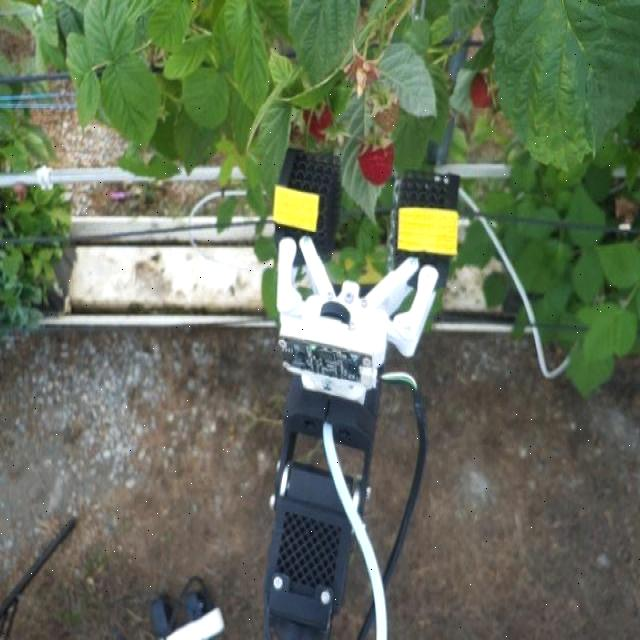Riped berries: (357, 130, 399, 187), (464, 66, 505, 112), (298, 97, 338, 138)
